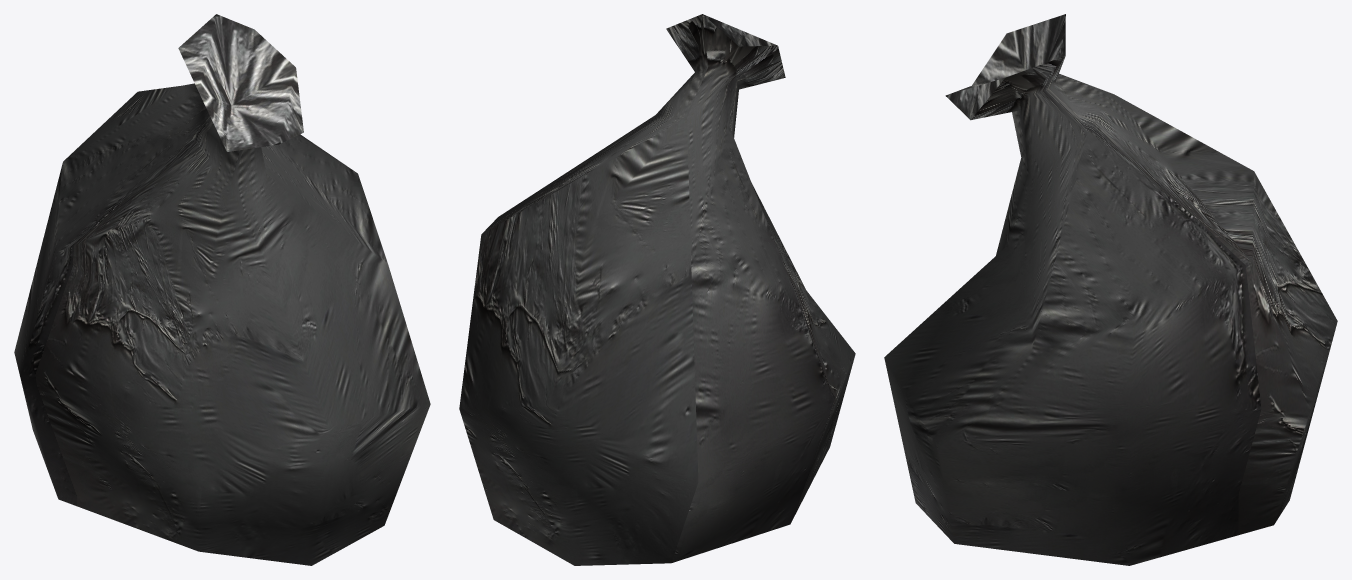
The model's file is garbagebag_3.fbx.
3 views of the same model, side by side, from view 1: azimuth 30°, elevation 25°; view 2: azimuth 150°, elevation 25°; view 3: azimuth 270°, elevation 25° (orthographic). The views are drawn at different scales.
Visible parts, largest first — view 1: garbage_bag; view 2: garbage_bag; view 3: garbage_bag.
Boxes of the visible parts, bbox=[...] form: garbage_bag: bbox=[14, 14, 430, 565]; garbage_bag: bbox=[459, 14, 855, 565]; garbage_bag: bbox=[884, 14, 1337, 565].
Size of the model in its own units: 0.6617 by 0.9492 by 0.7714.
